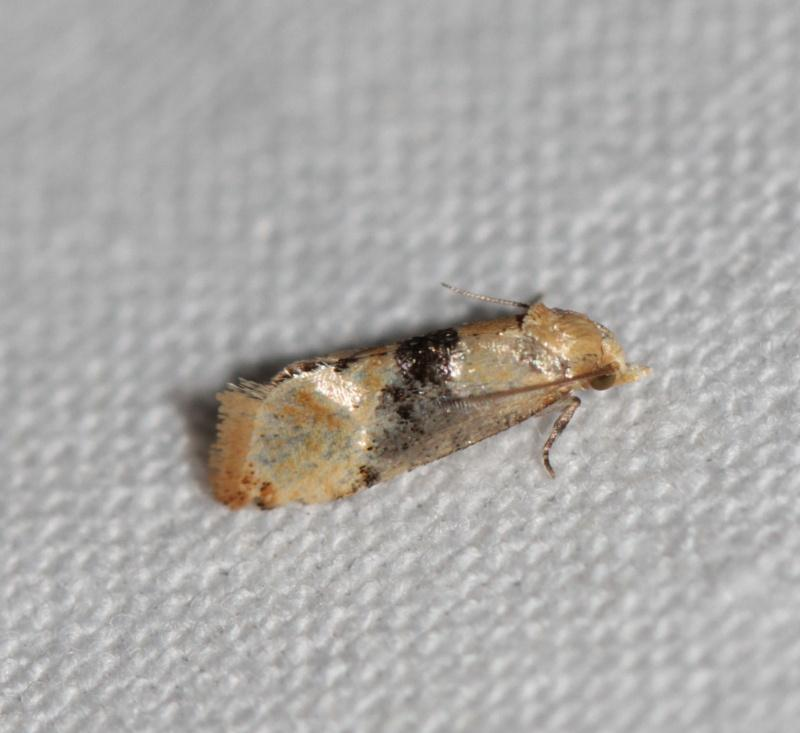Eupoecilia Ambiguella: (203, 279, 652, 514)
